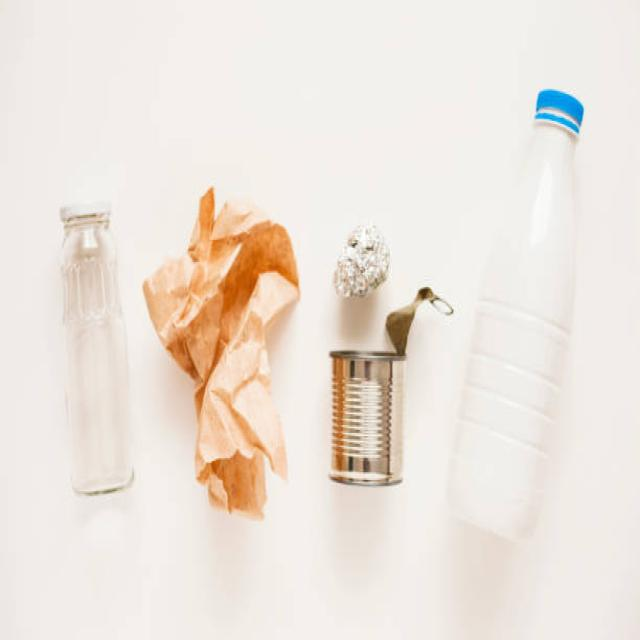glass: (44, 180, 134, 514)
metal: (322, 218, 454, 496)
paper: (150, 172, 290, 528)
plastic: (458, 62, 616, 576)
